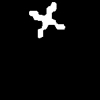single_crochet: (29, 2, 64, 37)
